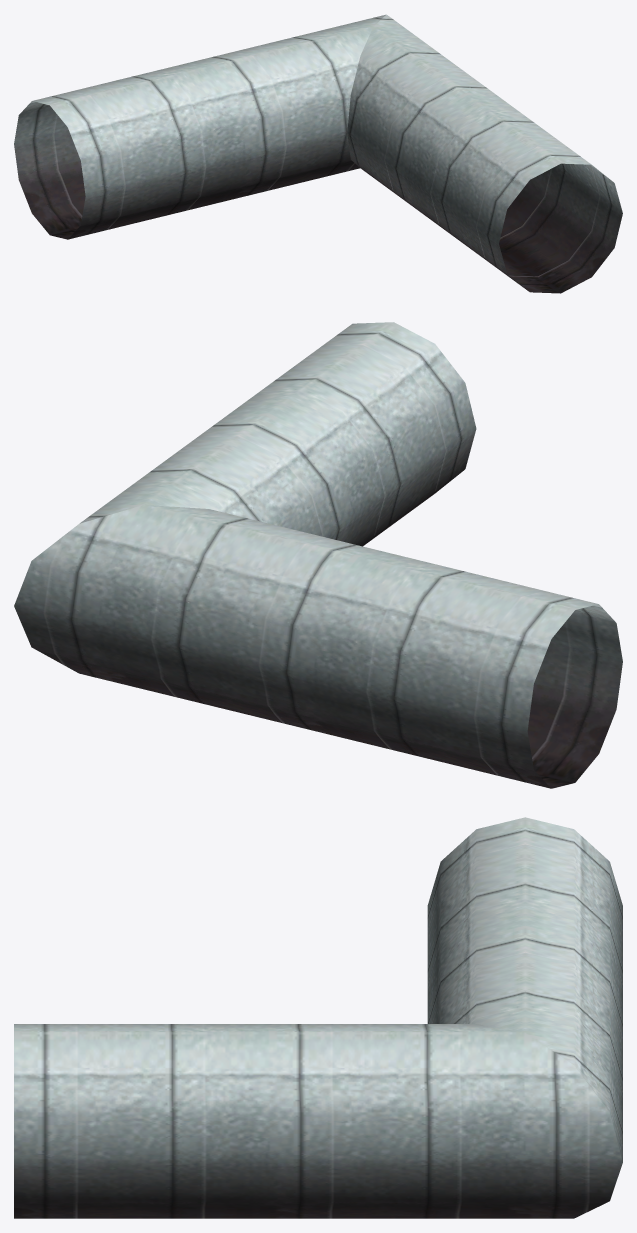
Rendered from pipes_corner_tall.fbx.
The picture shows the model from 3 angles, top to bottom: view 1: azimuth 30°, elevation 25°; view 2: azimuth 150°, elevation 25°; view 3: azimuth 270°, elevation 25°; orthographic projection. The views are drawn at different scales.
Parts seen in each view (by area): view 1: mesh_0; view 2: mesh_0; view 3: mesh_0.
Boxes of the visible parts, left/top/right/bottom form: mesh_0: left=14, top=14, right=622, bottom=293; mesh_0: left=14, top=322, right=622, bottom=788; mesh_0: left=14, top=817, right=622, bottom=1218.
Size of the model in its own units: 238 by 76.43 by 238.
Materials: 1 (1 with a texture image).
